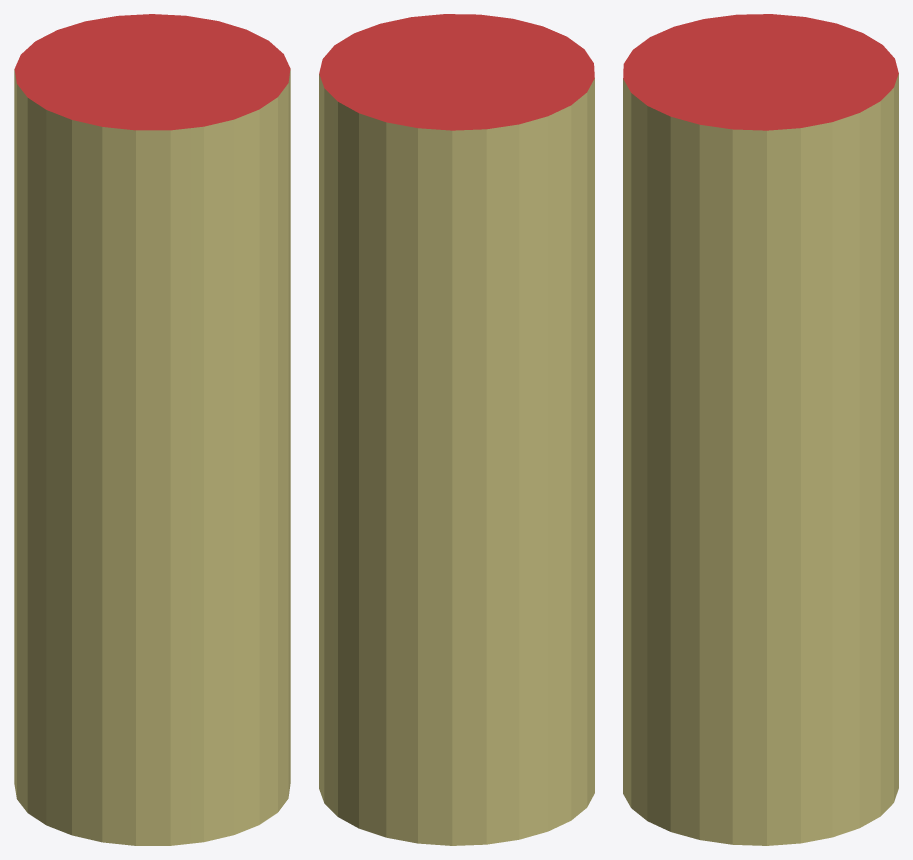
The picture shows the model from 3 angles, left to right: view 1: azimuth 30°, elevation 25°; view 2: azimuth 150°, elevation 25°; view 3: azimuth 270°, elevation 25°; orthographic projection.
Bounding box in the file's own units: 4.31 × 4.31 × 12.33.
